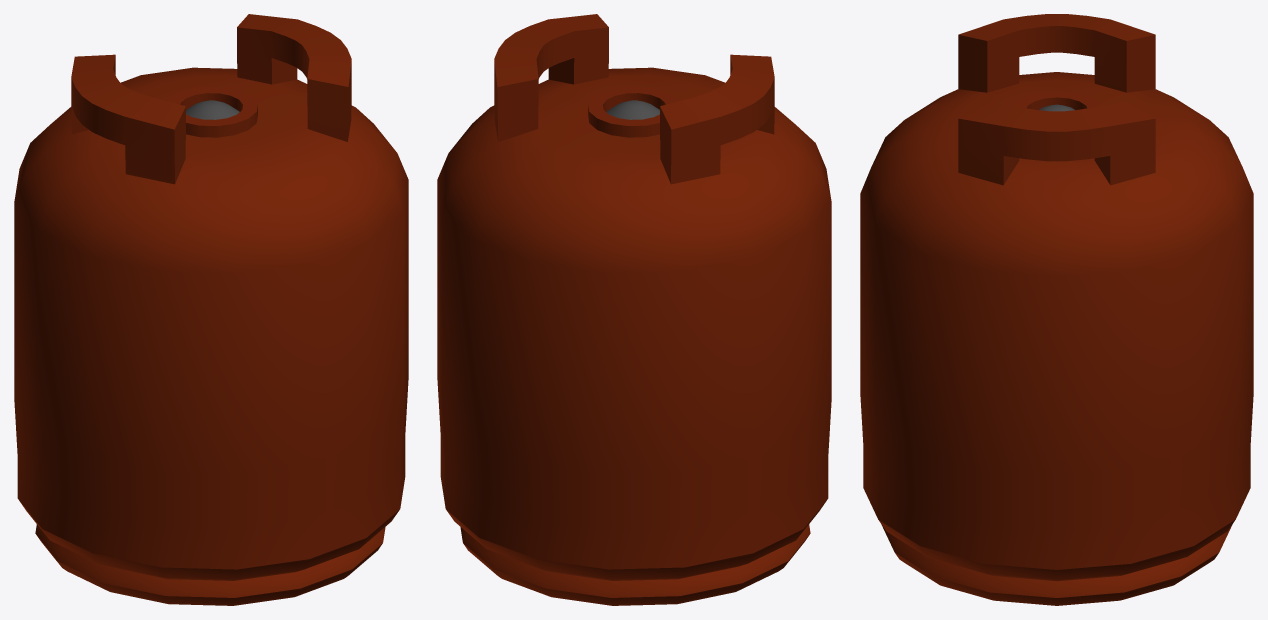
Rendered from gas11.glb.
The picture shows the model from 3 angles, left to right: view 1: azimuth 30°, elevation 25°; view 2: azimuth 150°, elevation 25°; view 3: azimuth 270°, elevation 25°; orthographic projection.
Visible parts, largest first — view 1: Gas11; view 2: Gas11; view 3: Gas11.
Boxes of the visible parts, x1,y1,x2,y2 form: Gas11: (14,14,408,605); Gas11: (437,14,831,605); Gas11: (860,14,1253,605).
Bounding box in the file's own units: 2.22 × 2.91 × 2.22.
